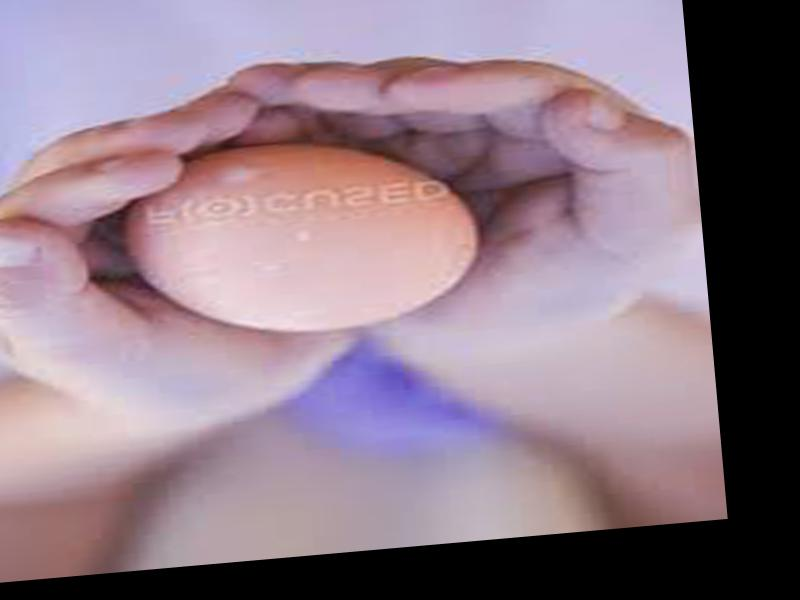Eggs: (121, 126, 491, 348)
